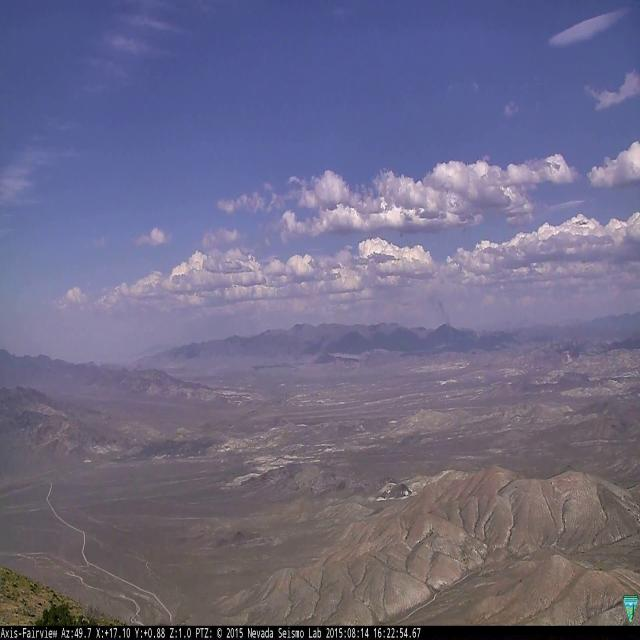smoke: (427, 290, 454, 368)
